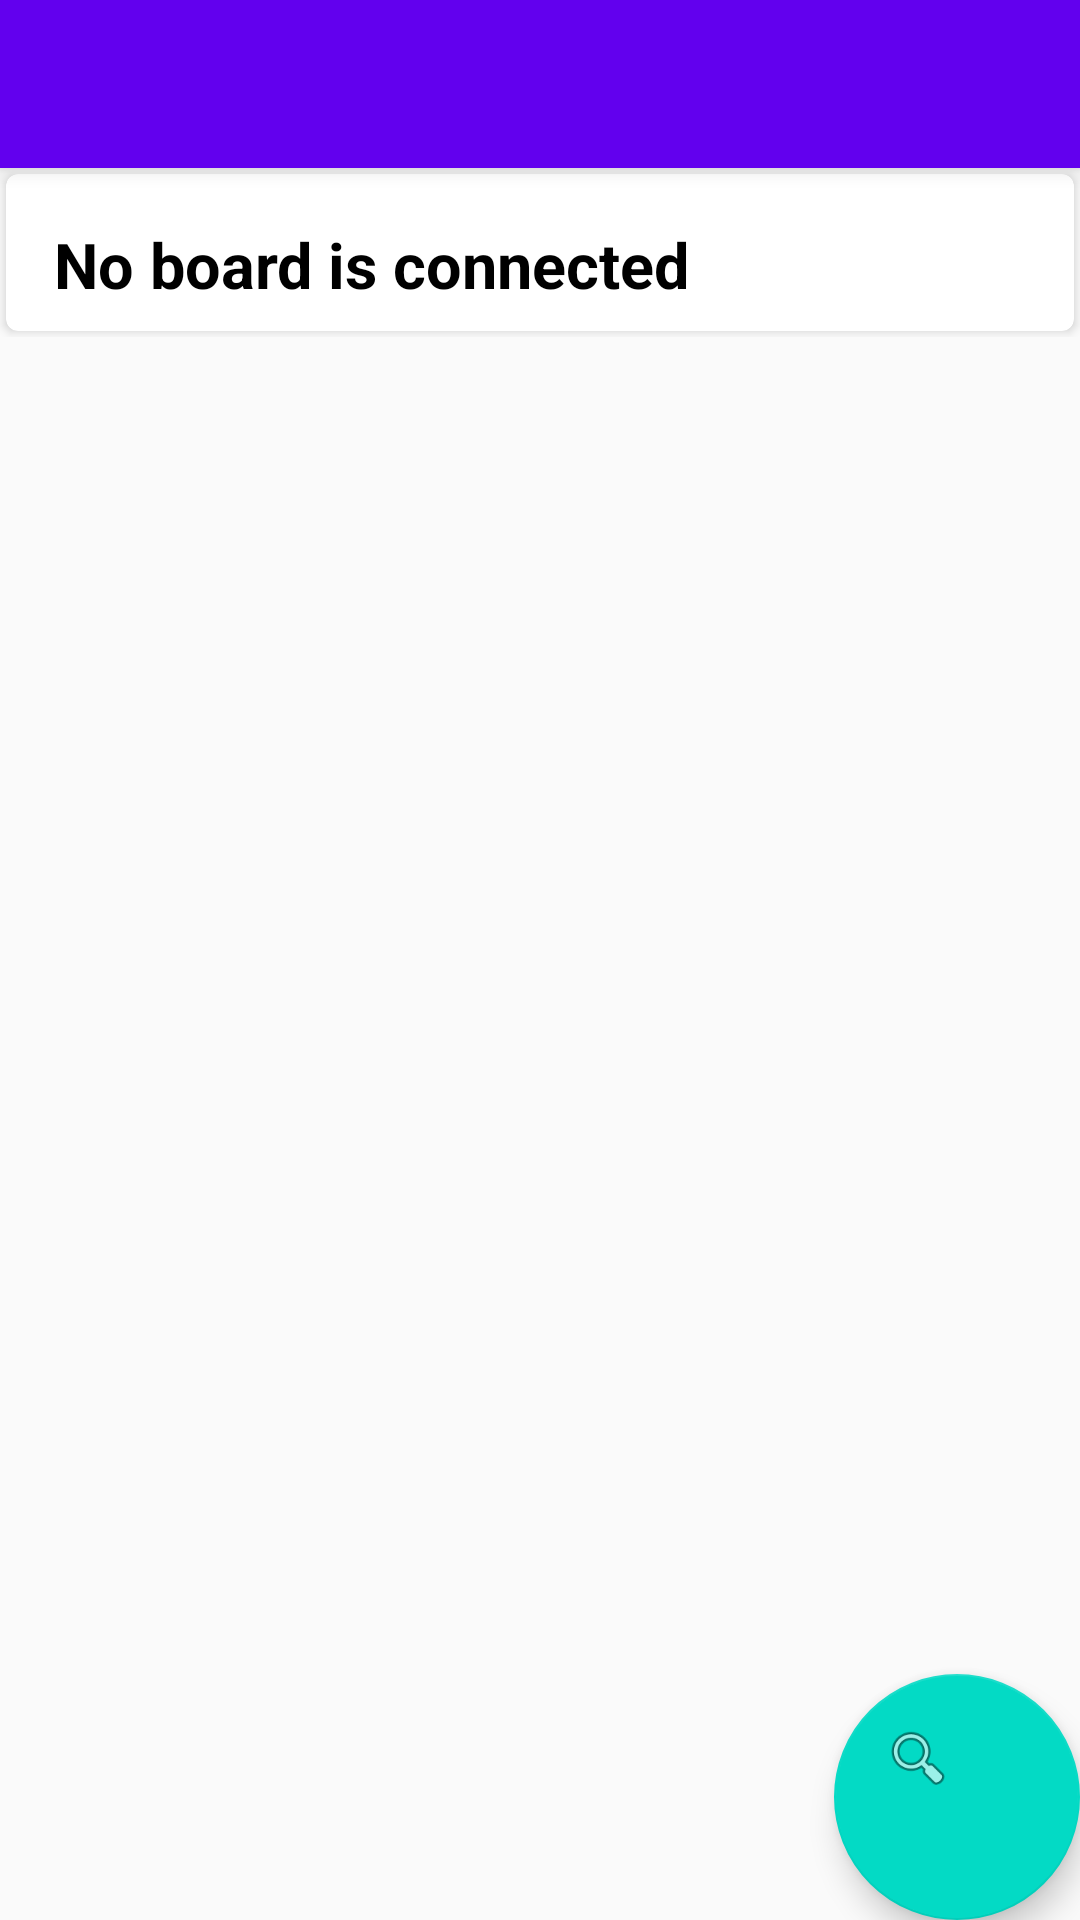

Where to tap for icons on this 1080*1920 app screen, as point (x, y):
search: point (957, 1797)
